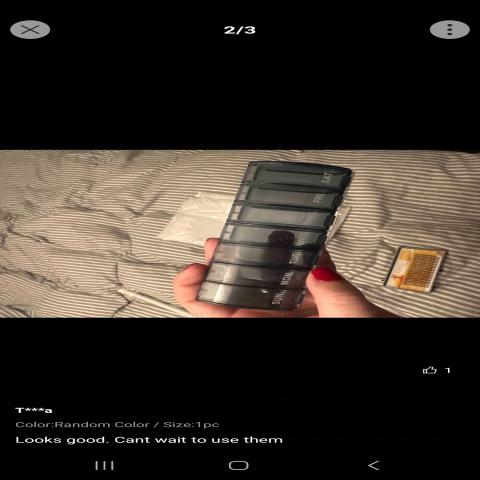Pill-box: (152, 149, 372, 315)
